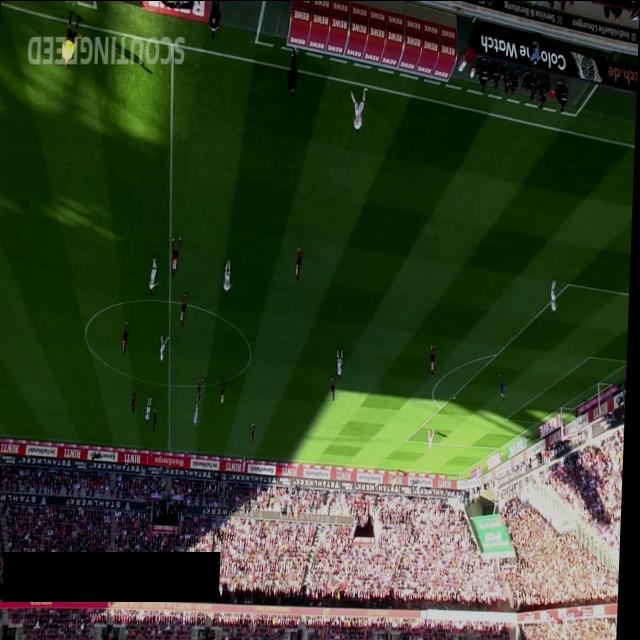goalkeeper: (498, 372, 509, 402)
player: (348, 86, 368, 134), (171, 236, 184, 276), (150, 254, 162, 294), (224, 259, 236, 295), (551, 276, 559, 314), (161, 334, 171, 362), (181, 292, 189, 326), (337, 348, 346, 378), (296, 246, 303, 280), (124, 320, 131, 354), (431, 344, 438, 374), (147, 397, 155, 422), (429, 428, 438, 450), (133, 387, 140, 413), (198, 378, 205, 402), (332, 375, 338, 401), (253, 422, 258, 445), (154, 408, 159, 430), (196, 402, 200, 426)
referee: (61, 10, 80, 68), (222, 378, 229, 406), (394, 468, 400, 487)
